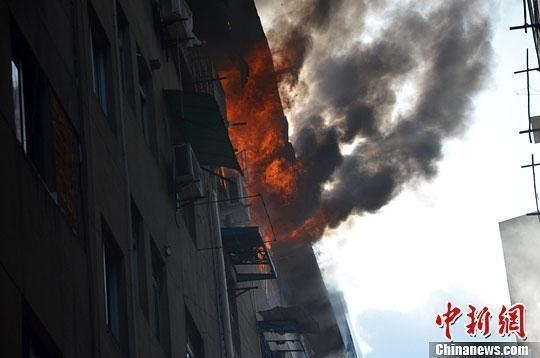fire: (218, 48, 327, 244)
